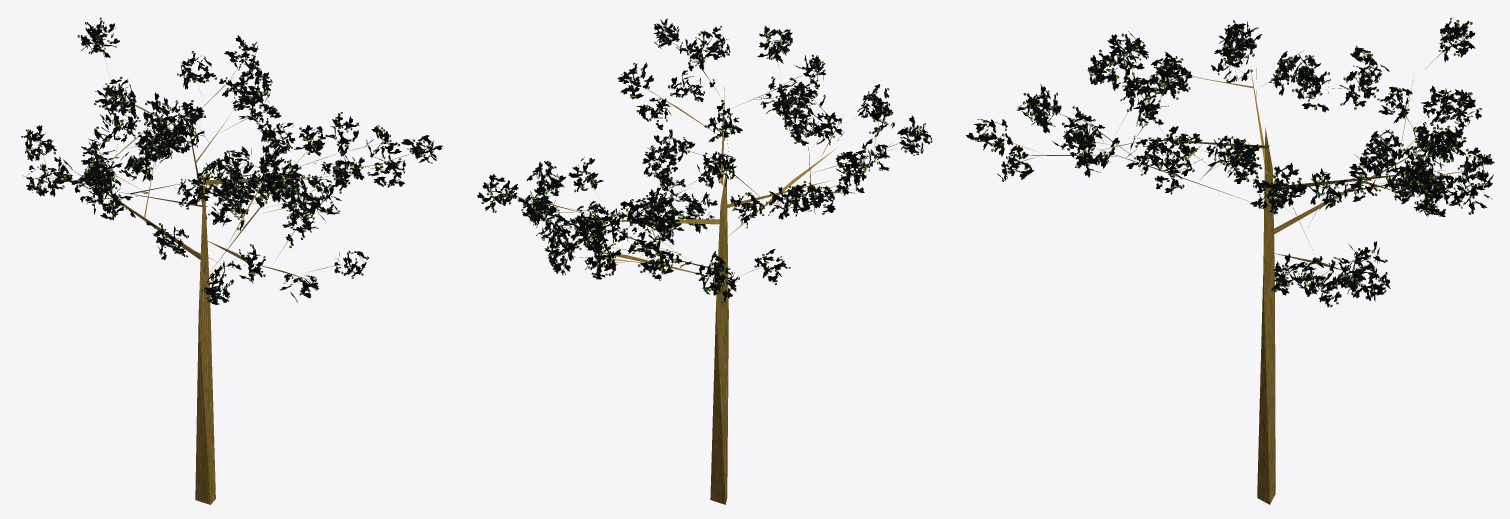
File: pine_open_v03_LOD2.fbx
The picture shows the model from 3 angles, left to right: view 1: azimuth 30°, elevation 25°; view 2: azimuth 150°, elevation 25°; view 3: azimuth 270°, elevation 25°; orthographic projection. The views are drawn at different scales.
Parts seen in each view (by area): view 1: pine_open_v03_LOD2; view 2: pine_open_v03_LOD2; view 3: pine_open_v03_LOD2.
Part boxes in pixels (<box>): pine_open_v03_LOD2: <box>21,17,442,504</box>; pine_open_v03_LOD2: <box>477,18,932,504</box>; pine_open_v03_LOD2: <box>966,17,1494,504</box>.
Size of the model in its own units: 2095 by 2859 by 2803.
2 materials, 2 textured.
